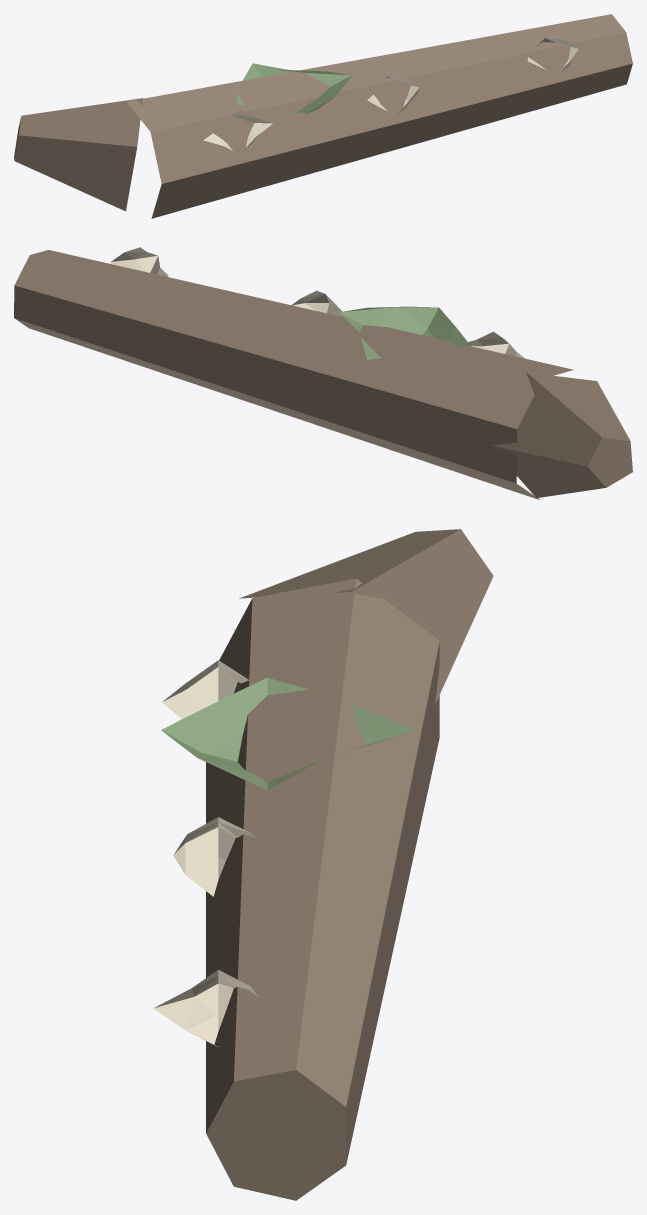
Rendered from log_v49.glb.
The picture shows the model from 3 angles, top to bottom: view 1: azimuth 30°, elevation 25°; view 2: azimuth 150°, elevation 25°; view 3: azimuth 270°, elevation 25°; orthographic projection. The views are drawn at different scales.
Visible parts, largest first — view 1: lod0; view 2: lod0; view 3: lod0.
Part boxes in pixels (box(x1,y1,x2,y2)): lod0: box(14, 14, 632, 218); lod0: box(14, 247, 632, 500); lod0: box(153, 529, 493, 1200).
Size of what is drawn, in the model's own units: 2.56 by 0.5251 by 0.6643.
